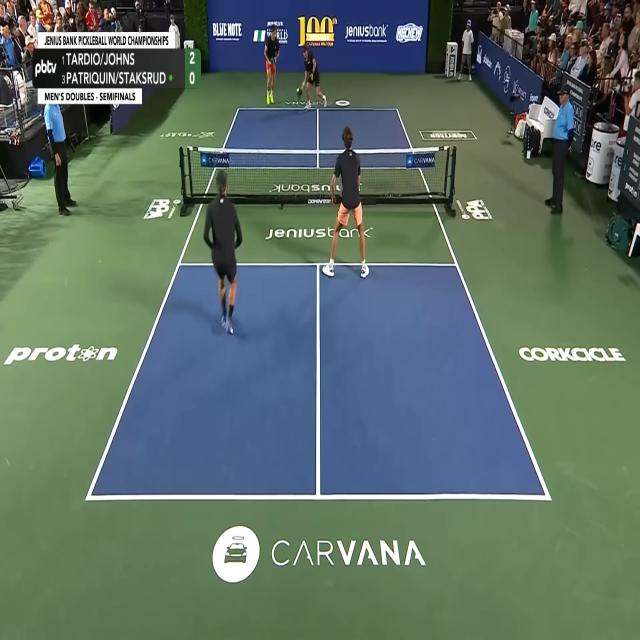ball: (296, 87, 300, 93)
